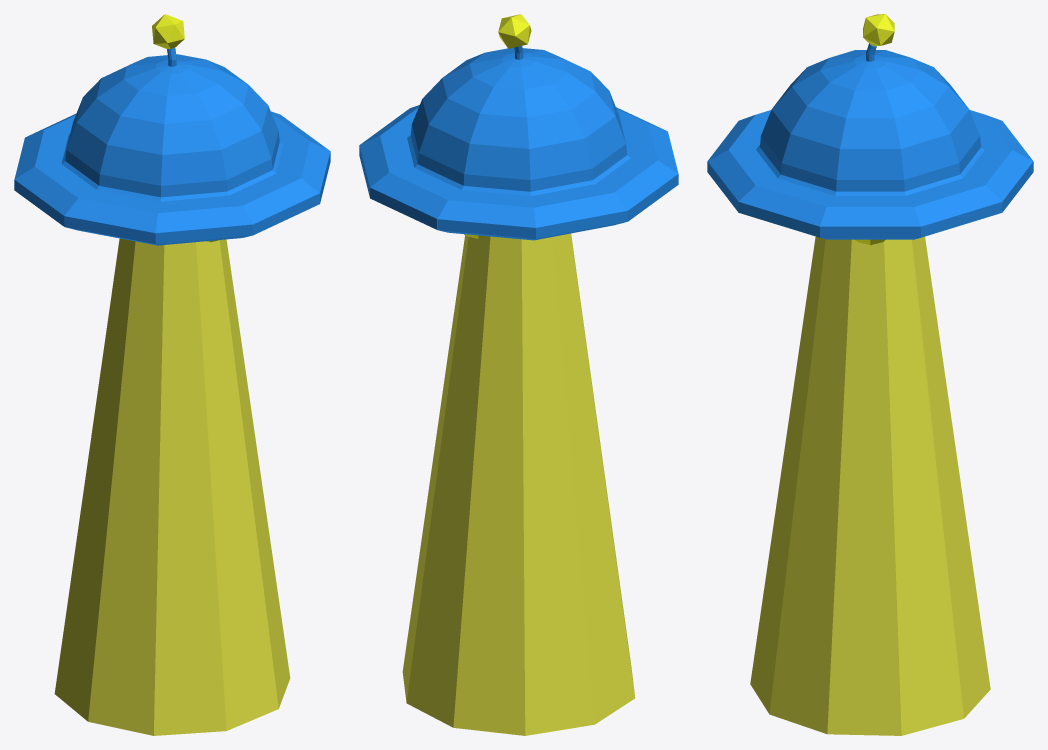
File: UFO.fbx
The picture shows the model from 3 angles, left to right: view 1: azimuth 30°, elevation 25°; view 2: azimuth 150°, elevation 25°; view 3: azimuth 270°, elevation 25°; orthographic projection.
Parts seen in each view (by area): view 1: UFOLight, UFOObj1; view 2: UFOLight, UFOObj1; view 3: UFOLight, UFOObj1.
Part boxes in pixels (bbox=[...]): UFOLight: bbox=[54, 238, 290, 735]; UFOObj1: bbox=[14, 14, 330, 245]; UFOLight: bbox=[402, 233, 635, 735]; UFOObj1: bbox=[359, 14, 678, 240]; UFOLight: bbox=[750, 236, 990, 735]; UFOObj1: bbox=[707, 14, 1033, 244].
Size of the model in its own units: 0.2165 by 0.5184 by 0.2276.
